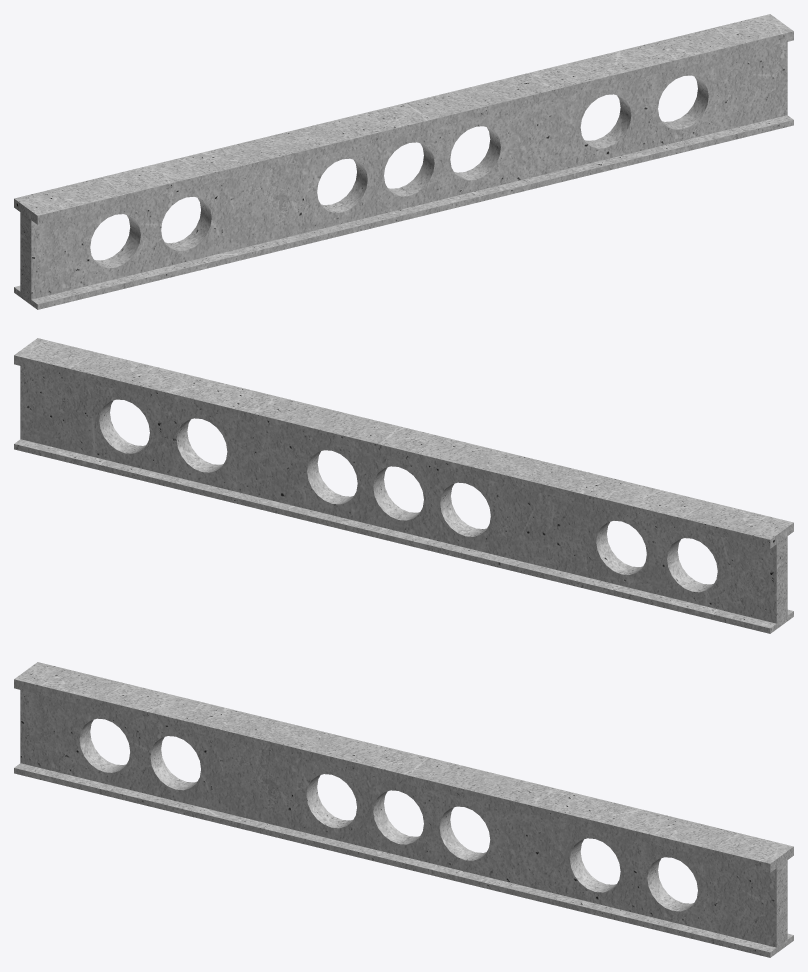
Rendered from BeamWithHoles.fbx.
The picture shows the model from 3 angles, top to bottom: view 1: azimuth 30°, elevation 25°; view 2: azimuth 150°, elevation 25°; view 3: azimuth 330°, elevation 25°; orthographic projection.
Visible parts, largest first — view 1: Safety_Training_Assets__1_:BeamWHoles; view 2: Safety_Training_Assets__1_:BeamWHoles; view 3: Safety_Training_Assets__1_:BeamWHoles.
Boxes of the visible parts, <box> form: Safety_Training_Assets__1_:BeamWHoles: <box>14,14,793,309</box>; Safety_Training_Assets__1_:BeamWHoles: <box>14,338,793,633</box>; Safety_Training_Assets__1_:BeamWHoles: <box>14,662,793,957</box>.
Bounding box in the file's own units: 24.53 × 2.92 × 1.33.
